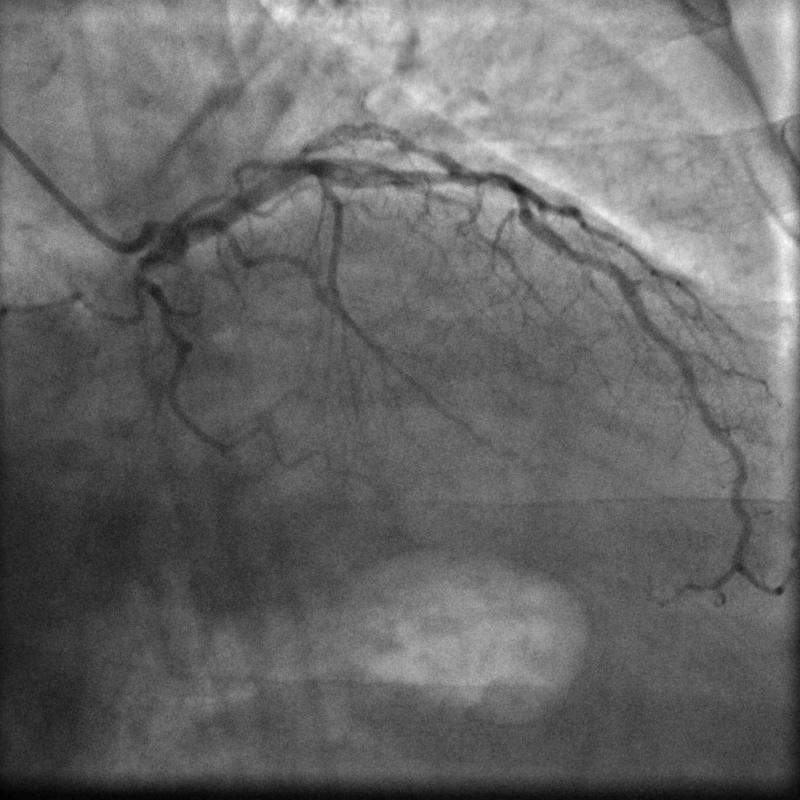Stenosis: (455, 169, 533, 206)
